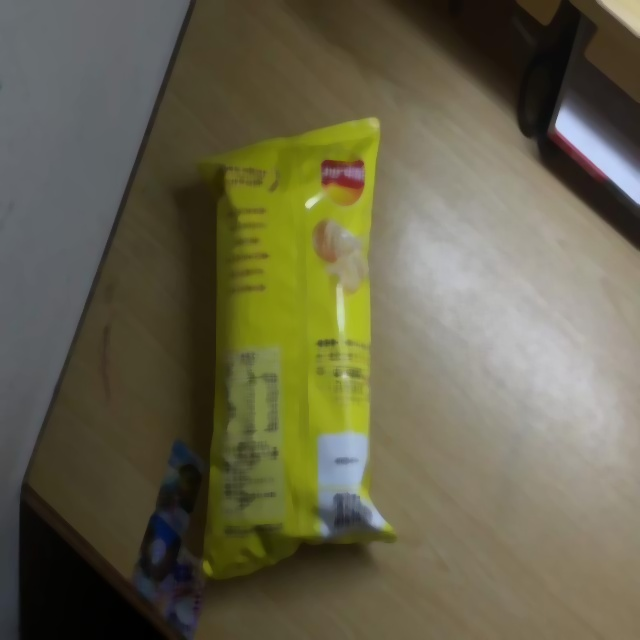Lay-s-original: (190, 114, 401, 582)
